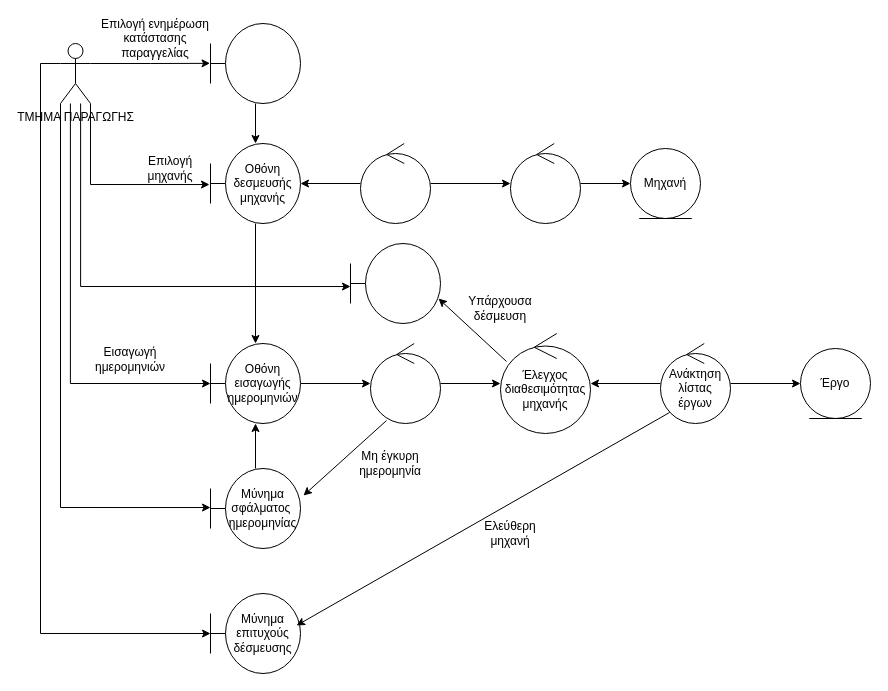
This 888x691 diagram has some shape labels left out. The shapes that lost their labels are listed below. From the top down, each one's box as (x1, y1, x2, y2) in pixels, then its label:
(210, 22, 300, 104): Μενού τμήματος παραγωγής
(360, 142, 430, 224): Εμφάνιση λίστας μηχανών
(510, 142, 580, 224): Ανάκτηση λίστας μηχανών
(350, 242, 440, 324): Μύνημα σύγκρουσης δεσμέυσεων
(370, 342, 440, 424): Έλεγχος εγκυρότητας ημερομηνιών
